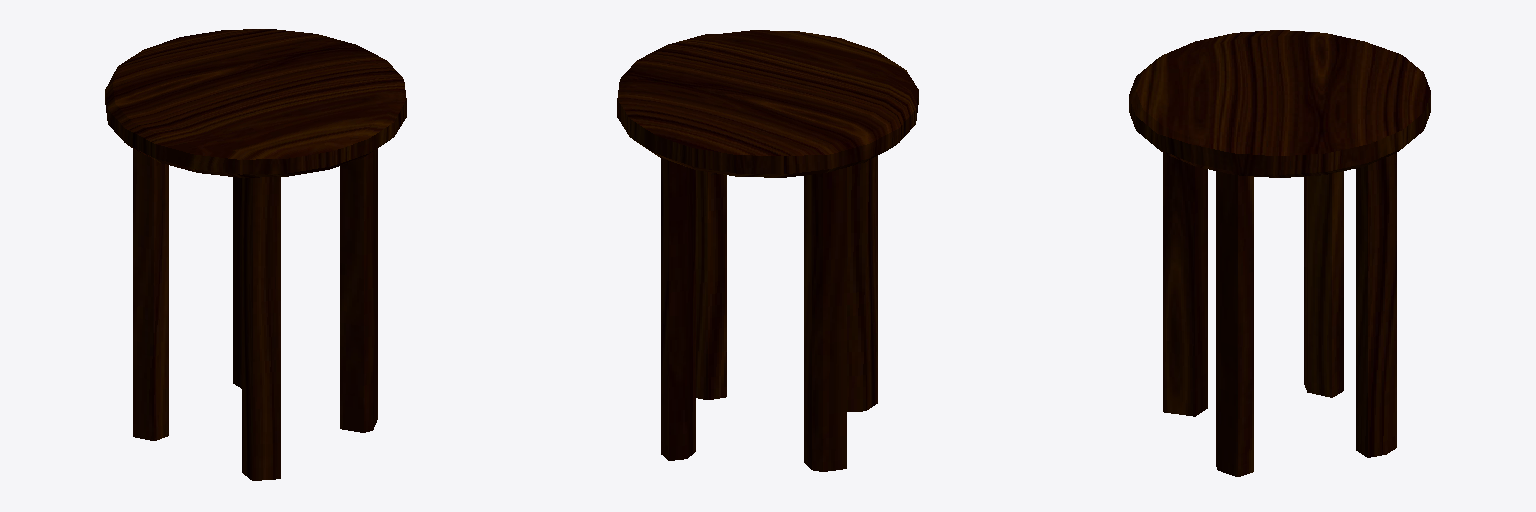
3 renders of one model, left to right at view 1: azimuth 30°, elevation 25°; view 2: azimuth 150°, elevation 25°; view 3: azimuth 270°, elevation 25°, orthographic.
Visible parts, largest first — view 1: pCylinder1; view 2: pCylinder1; view 3: pCylinder1.
Boxes of the visible parts, x1=… form: pCylinder1: x1=105, y1=29, x2=406, y2=480; pCylinder1: x1=617, y1=30, x2=918, y2=471; pCylinder1: x1=1129, y1=30, x2=1430, y2=476.
Bounding box in the file's own units: 3.83 × 4.81 × 3.83.
Materials: 1 (1 with a texture image).